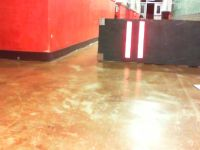switch: (124, 21, 133, 58), (137, 21, 146, 58)
